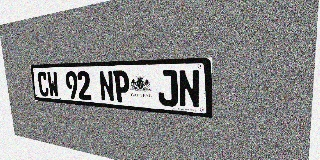2: (77, 71, 92, 100)
9: (65, 71, 79, 99)
C: (37, 71, 49, 97)
J: (157, 70, 178, 107)
N: (178, 69, 200, 109), (98, 71, 115, 102)
P: (113, 70, 131, 103)
W: (47, 71, 59, 98)
